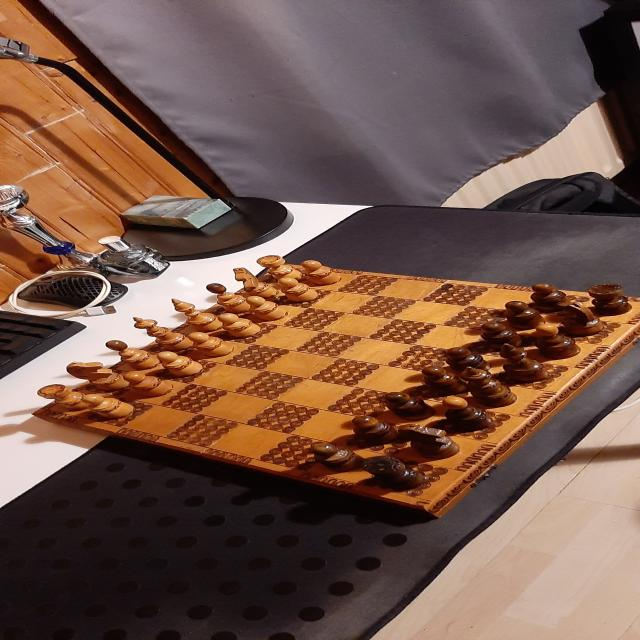black-bishop: (442, 396, 493, 431), (531, 323, 580, 359)
black-king: (459, 366, 517, 407)
black-knight: (398, 424, 460, 458), (556, 302, 605, 336)
black-pawn: (312, 443, 366, 472), (384, 392, 437, 421), (422, 367, 468, 396), (353, 416, 398, 444), (501, 300, 546, 328), (529, 283, 573, 311), (478, 322, 524, 348), (445, 347, 490, 373)
black-queen: (499, 343, 549, 383)
black-rook: (362, 456, 424, 490), (585, 283, 633, 315)
white-bishop: (105, 340, 161, 370), (206, 283, 250, 314)
white-king: (132, 316, 194, 352)
white-knight: (66, 361, 130, 391), (233, 268, 280, 300)
white-pawn: (81, 394, 134, 419), (123, 372, 174, 397), (157, 351, 204, 377), (188, 332, 235, 358), (217, 313, 261, 338), (245, 296, 289, 321), (301, 260, 342, 286), (277, 278, 319, 302)
white-queen: (171, 298, 223, 333)
white-rook: (256, 255, 307, 282), (37, 384, 87, 411)
